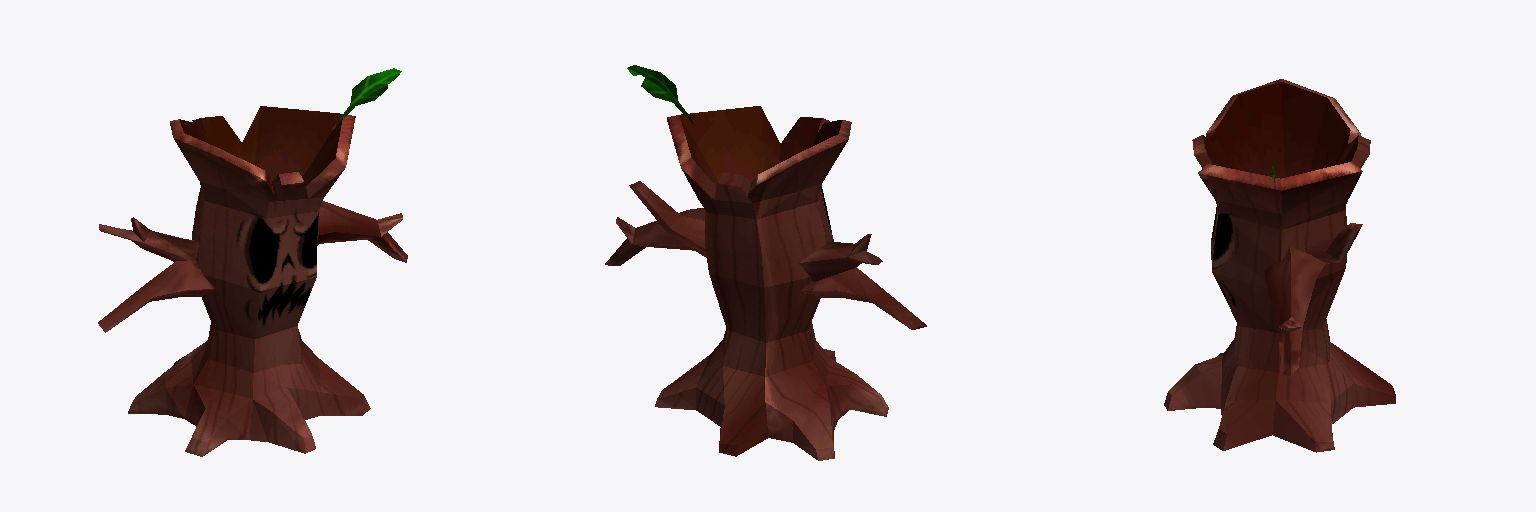
3 views of the same model, side by side, from view 1: azimuth 30°, elevation 25°; view 2: azimuth 150°, elevation 25°; view 3: azimuth 270°, elevation 25° (orthographic).
Visible parts, largest first — view 1: wickedtree-fire-model_0.002; view 2: wickedtree-fire-model_0.002; view 3: wickedtree-fire-model_0.002.
Boxes of the visible parts, x1,y1,x2,y2 form: wickedtree-fire-model_0.002: [98, 68, 407, 456]; wickedtree-fire-model_0.002: [605, 65, 926, 460]; wickedtree-fire-model_0.002: [1164, 79, 1395, 452].
Bounding box in the file's own units: 10.6 × 10.03 × 6.74.
Materials: 1 (1 with a texture image).